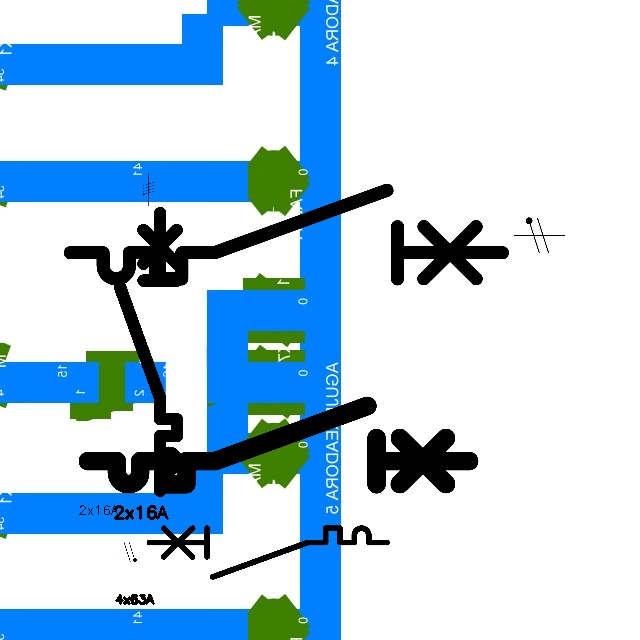interruptor_termomagnetico: (59, 179, 513, 290), (78, 396, 479, 494), (113, 206, 184, 498), (143, 522, 392, 583)
